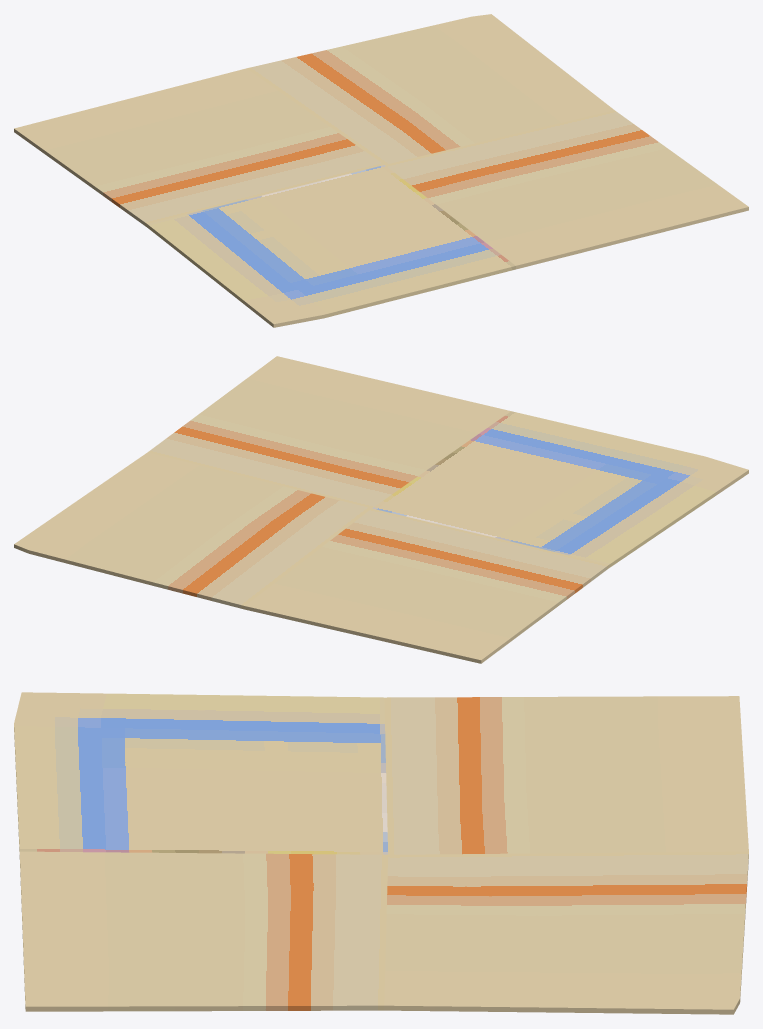
The model's file is a_com_house_a01_coaster01_square.gltf.
The picture shows the model from 3 angles, top to bottom: view 1: azimuth 30°, elevation 25°; view 2: azimuth 150°, elevation 25°; view 3: azimuth 270°, elevation 25°; orthographic projection. The views are drawn at different scales.
Visible parts, largest first — view 1: a_com_house_a01_coaster01_mesh3_shape:a_com_house_a01_coaste; view 2: a_com_house_a01_coaster01_mesh3_shape:a_com_house_a01_coaste; view 3: a_com_house_a01_coaster01_mesh3_shape:a_com_house_a01_coaste.
Boxes of the visible parts, bbox=[...] form: a_com_house_a01_coaster01_mesh3_shape:a_com_house_a01_coaste: bbox=[14, 14, 748, 327]; a_com_house_a01_coaster01_mesh3_shape:a_com_house_a01_coaste: bbox=[14, 356, 748, 663]; a_com_house_a01_coaster01_mesh3_shape:a_com_house_a01_coaste: bbox=[14, 692, 748, 1014].
Bounding box in the file's own units: 0.5582 × 0.00403 × 0.5463.
Materials: 1 (1 with a texture image).
